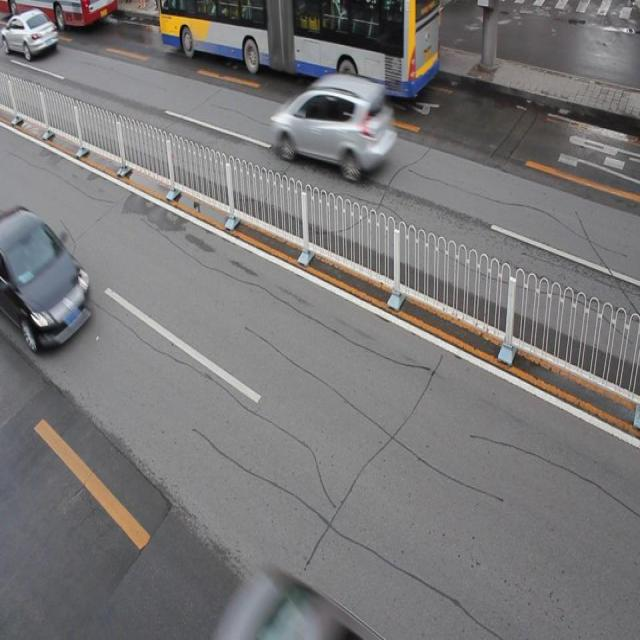car: (1, 205, 92, 350), (273, 73, 393, 182), (1, 9, 58, 60)
van: (159, 1, 439, 96), (0, 1, 119, 27)
